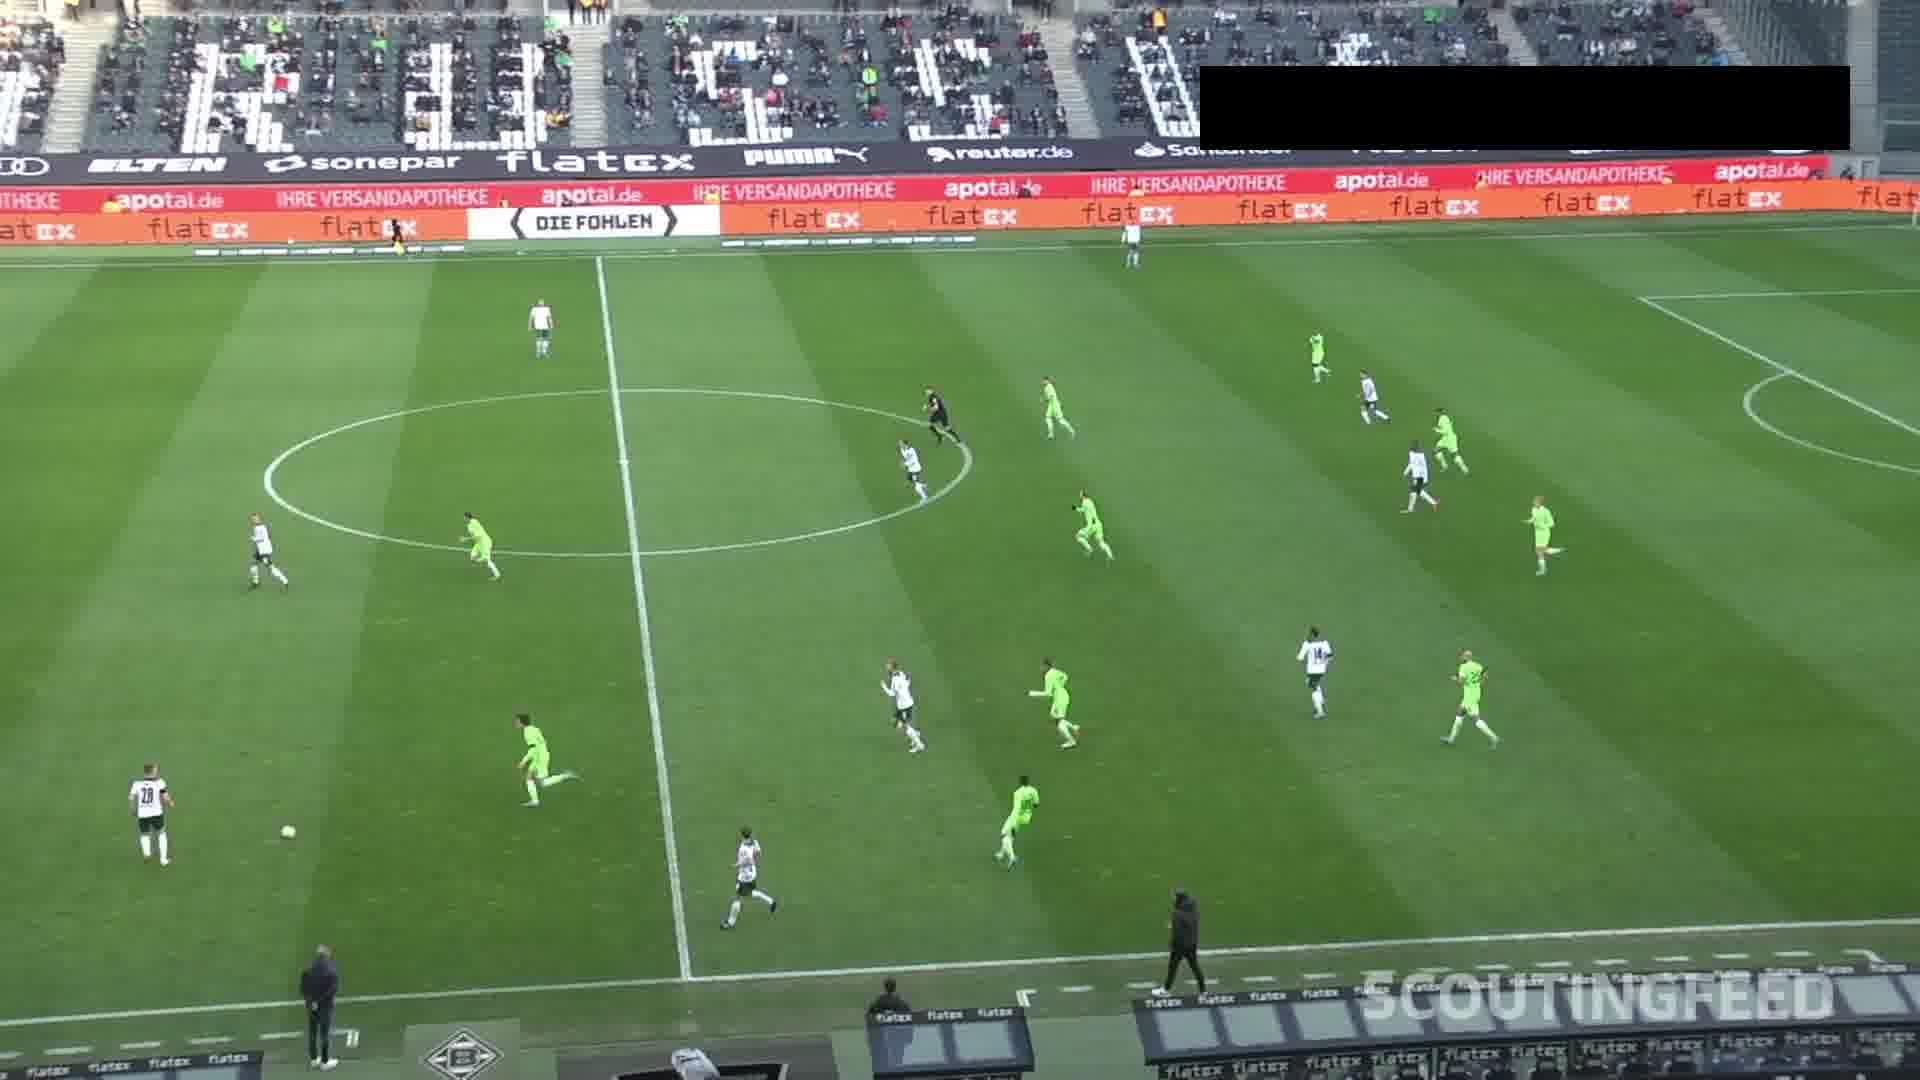football: (278, 822, 298, 843)
